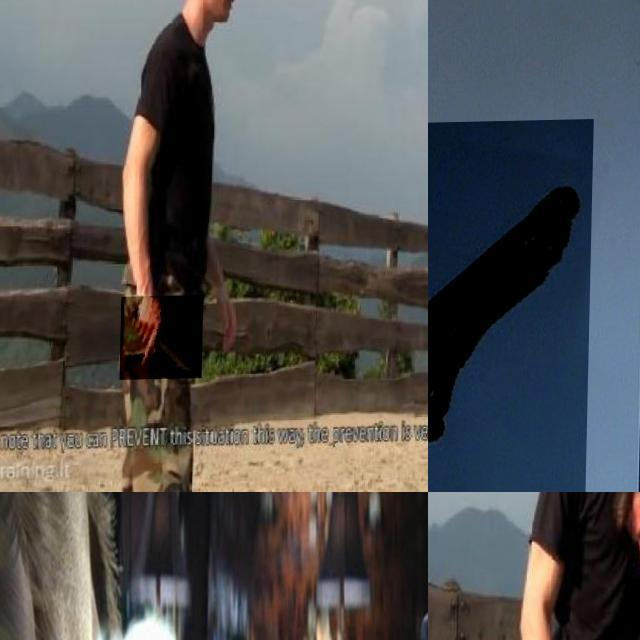-: (122, 296, 205, 381)
gun-knife-thesis - v11 Yolov5 augmented: (428, 121, 615, 492)
